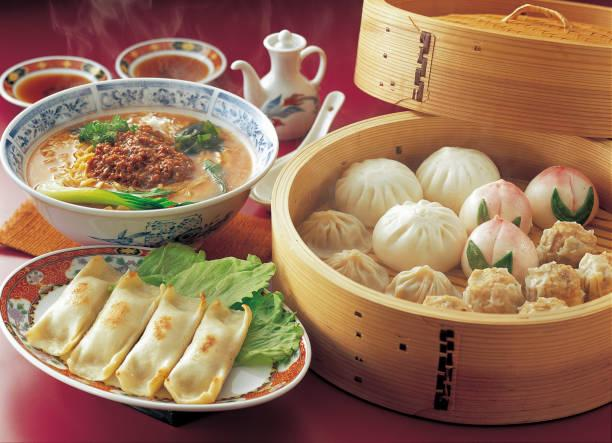Braised Crucian Carp: (273, 117, 605, 422), (0, 243, 308, 415), (0, 78, 277, 247)
